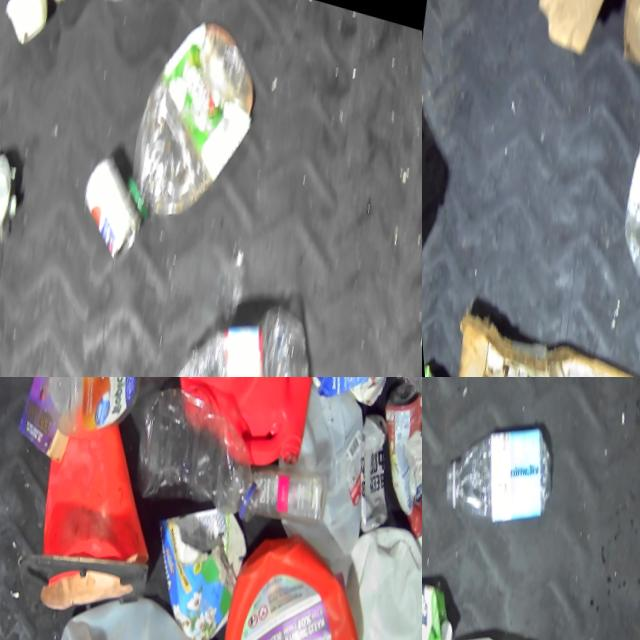can: (65, 137, 154, 266), (0, 132, 31, 318), (422, 348, 465, 377)
milk_jug: (280, 496, 422, 640), (28, 574, 216, 640), (242, 447, 332, 533)
non_white_jug: (195, 522, 369, 640), (146, 377, 334, 465)
plastic_bottle: (111, 0, 272, 236), (124, 387, 269, 529), (131, 271, 324, 377), (430, 390, 567, 539), (595, 13, 640, 314)
